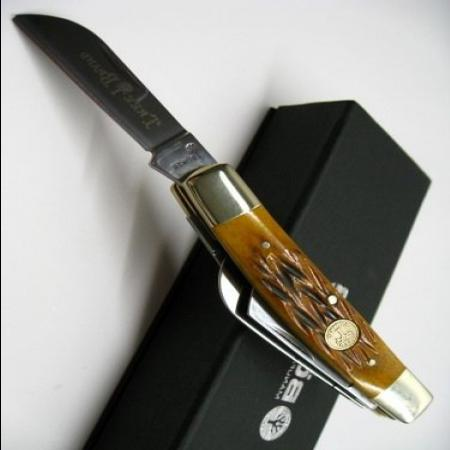long weapon: (6, 6, 227, 190)
